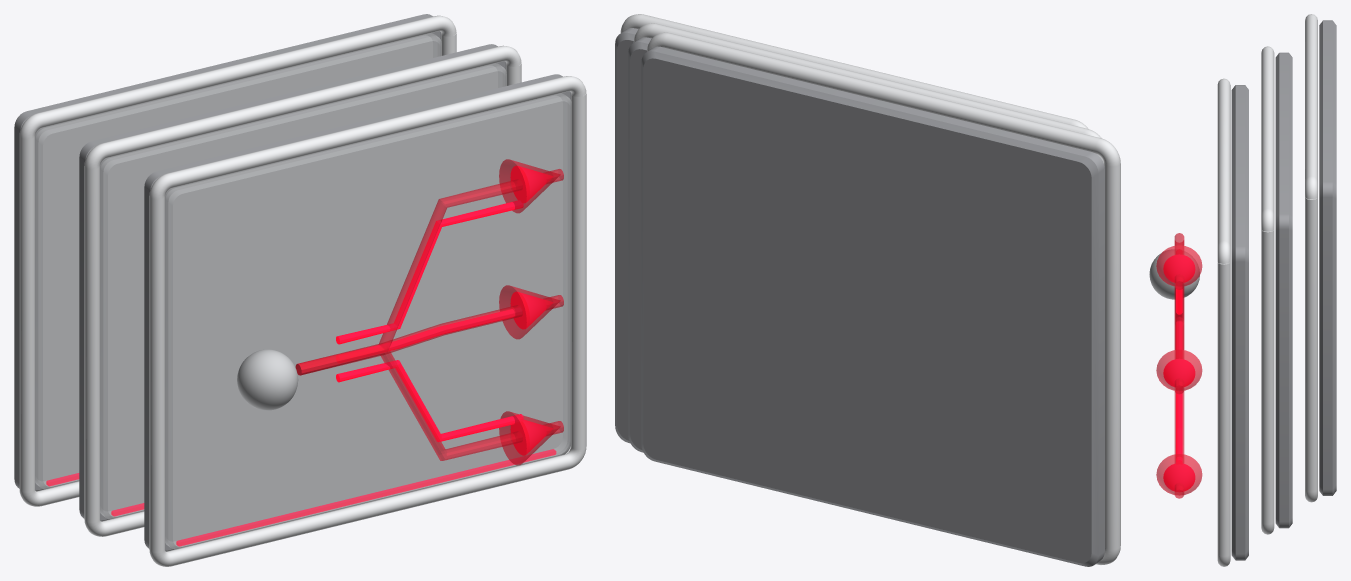
Rendered from 27-scenario-planning.glb.
The picture shows the model from 3 angles, left to right: view 1: azimuth 30°, elevation 25°; view 2: azimuth 150°, elevation 25°; view 3: azimuth 270°, elevation 25°; orthographic projection. The views are drawn at different scales.
Parts seen in each view (by area): view 1: BC brushed iron, BC clear optical glass, BC polished iron bevel, BC ruby optical glass, BC internal ruby light, BC satin iron; view 2: BC brushed iron, BC polished iron bevel; view 3: BC brushed iron, BC polished iron bevel, BC ruby optical glass, BC internal ruby light, BC satin iron.
Part boxes in pixels (box(x1,y1,x2,y2)): BC brushed iron: box(14, 14, 570, 551); BC clear optical glass: box(35, 33, 571, 549); BC polished iron bevel: box(19, 15, 586, 566); BC ruby optical glass: box(295, 159, 563, 465); BC internal ruby light: box(46, 165, 556, 546); BC satin iron: box(237, 349, 298, 410); BC brushed iron: box(615, 28, 1104, 566); BC polished iron bevel: box(620, 14, 1120, 564); BC brushed iron: box(1231, 20, 1336, 560); BC polished iron bevel: box(1217, 14, 1317, 566); BC ruby optical glass: box(1156, 233, 1202, 498); BC internal ruby light: box(1163, 254, 1195, 491); BC satin iron: box(1149, 249, 1199, 299).
Bounding box in the file's own units: 2.13 × 1.72 × 0.8125.
